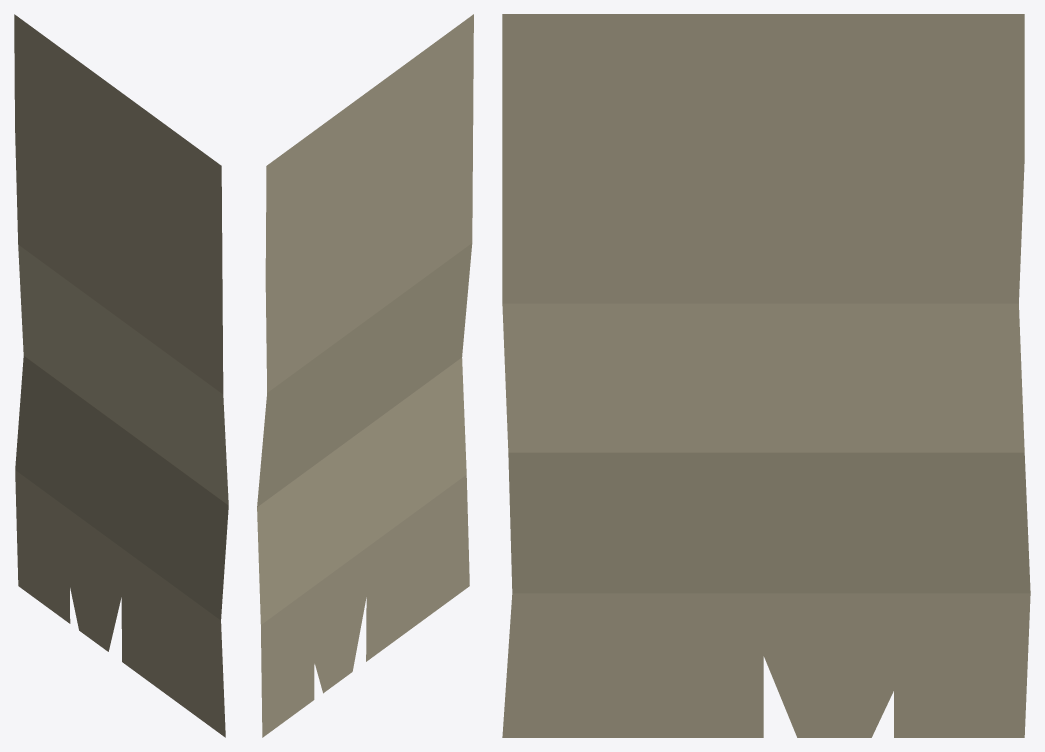
The model's file is paper.fbx.
3 views of the same model, side by side, from view 1: azimuth 30°, elevation 25°; view 2: azimuth 150°, elevation 25°; view 3: azimuth 270°, elevation 25° (orthographic). The views are drawn at different scales.
Parts seen in each view (by area): view 1: Plane; view 2: Plane; view 3: Plane.
Part boxes in pixels (x1,y1,x2,y2): Plane: (14,14,228,737); Plane: (257,14,473,737); Plane: (502,14,1030,737).
Bounding box in the file's own units: 0.942 × 54.47 × 36.14.
